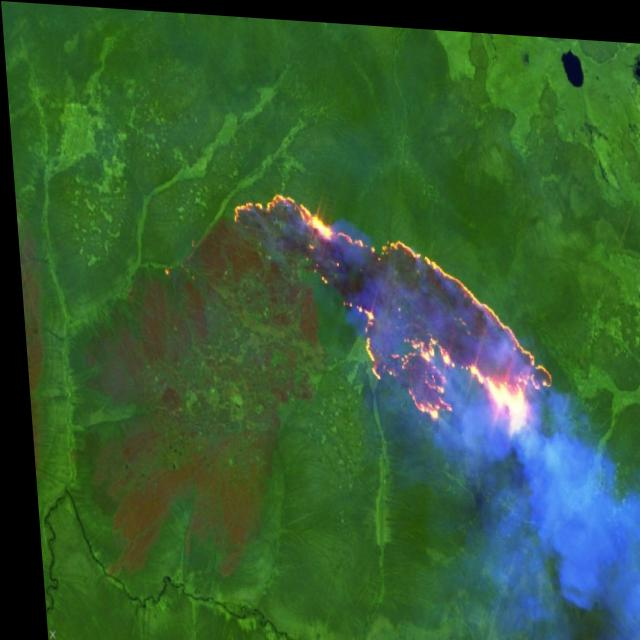fire: (225, 182, 553, 447)
